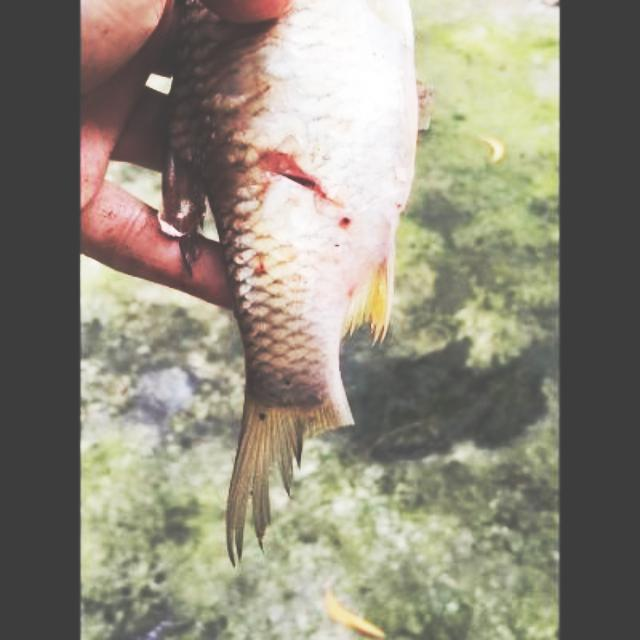Edwardsiella Ictaluri -Bacterial Red Disease-: (157, 0, 416, 562)
